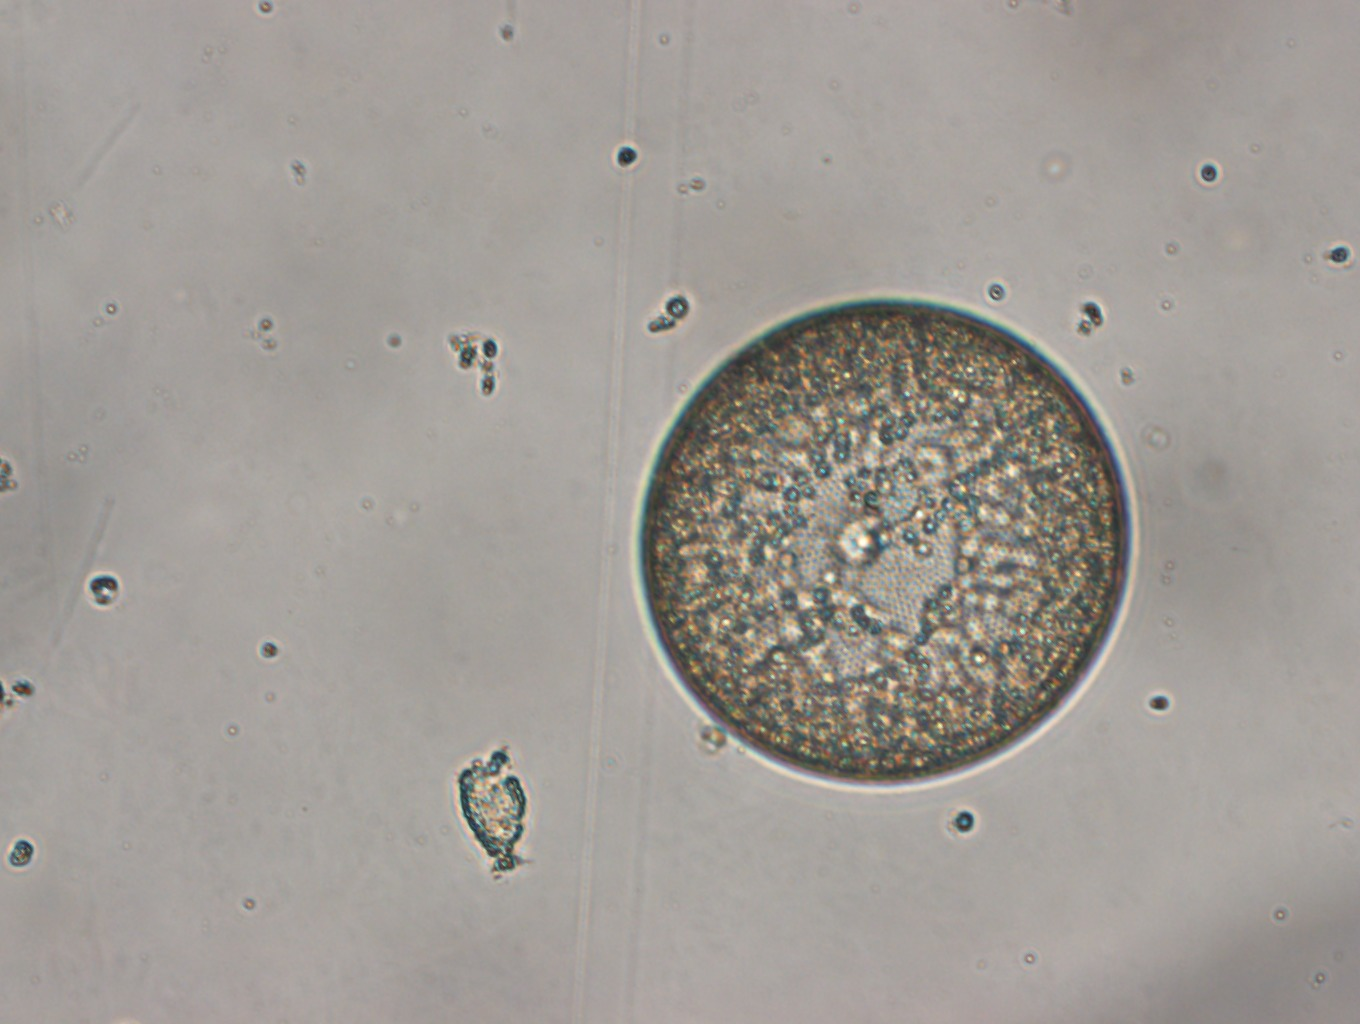coscinodiscus: (634, 290, 1139, 793)
